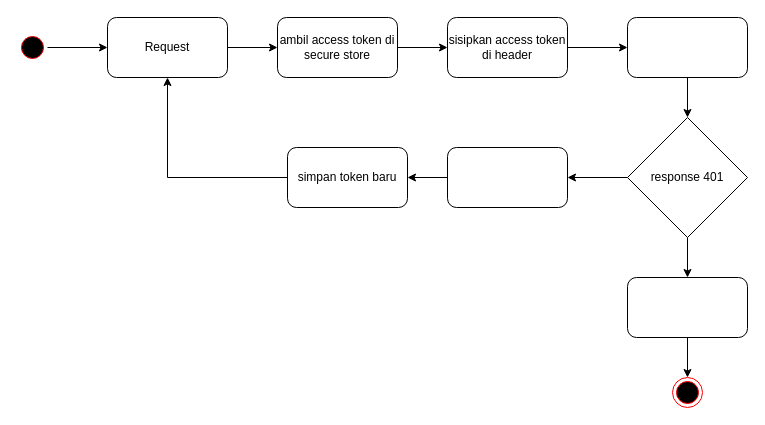
Some shapes in this 765 by 425 pixel diagram are drawn without their labels. Each missing label, with the centre of its shape:
"jalankan method refresh token" goes at (x=507, y=177).
"kirim request ke backend" goes at (x=687, y=47).
"response 200 / error lain" goes at (x=687, y=307).
